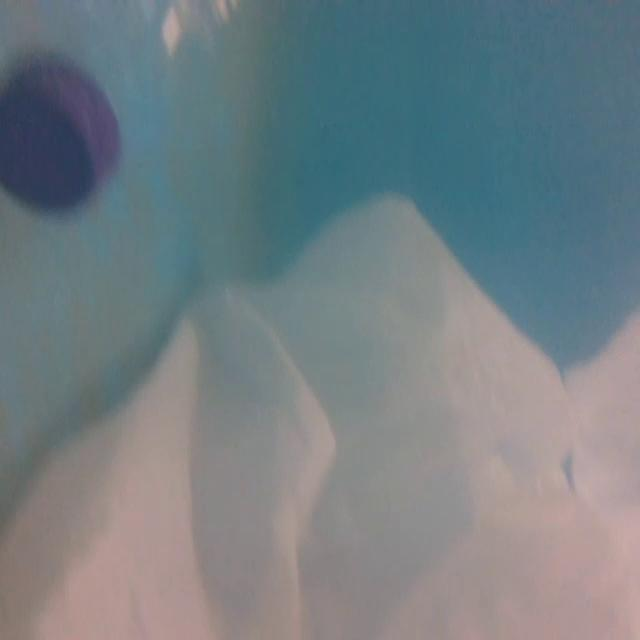plastic bags: (2, 192, 640, 640)
